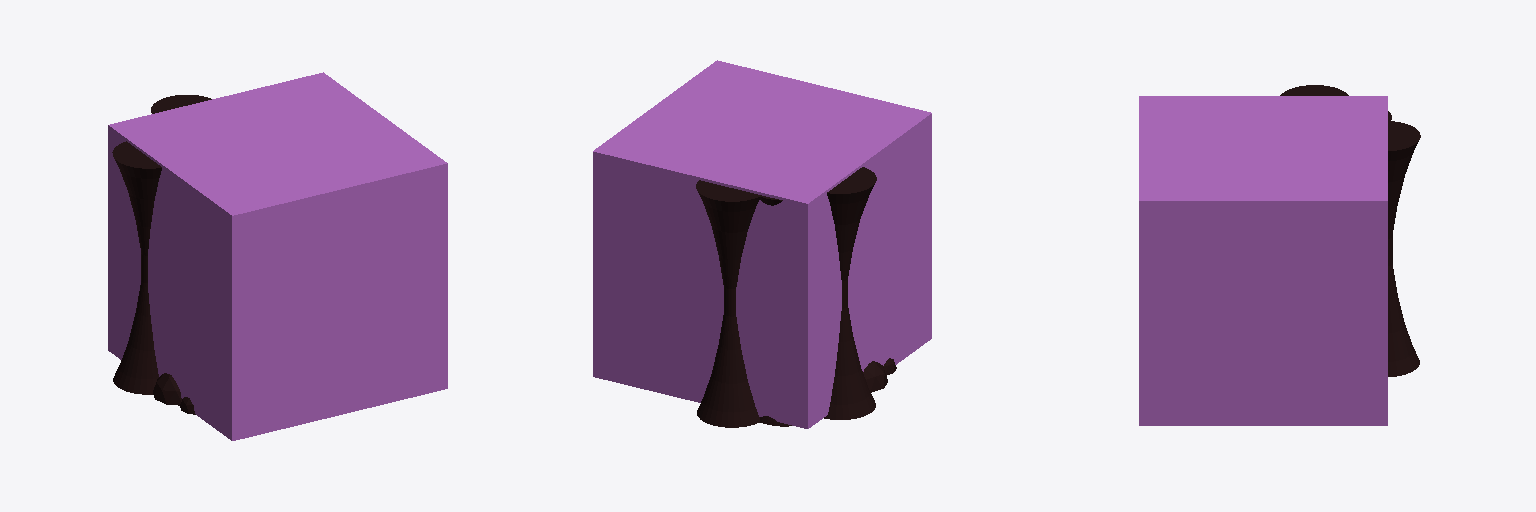
Rendered from crystal_formations.obj.
The picture shows the model from 3 angles: view 1: azimuth 30°, elevation 25°; view 2: azimuth 150°, elevation 25°; view 3: azimuth 270°, elevation 25°; orthographic projection.
Visible parts, largest first — view 1: Cube_Cube.002, Cylinder.001, Icosphere.003_Icosphere.004, Cylinder.002; view 2: Cube_Cube.002, Cylinder.002, Cylinder.001, Icosphere.003_Icosphere.004; view 3: Cube_Cube.002, Cylinder.002, Cylinder.001.
Boxes of the visible parts, box(x1,y1,x2,y2) form: Cube_Cube.002: box(108, 72, 447, 440); Cylinder.001: box(112, 141, 161, 394); Icosphere.003_Icosphere.004: box(153, 373, 181, 405); Cylinder.002: box(151, 95, 211, 113); Cube_Cube.002: box(593, 60, 931, 428); Cylinder.002: box(696, 180, 759, 427); Cylinder.001: box(824, 167, 876, 419); Icosphere.003_Icosphere.004: box(863, 361, 887, 392); Cube_Cube.002: box(1139, 96, 1387, 425); Cylinder.002: box(1388, 121, 1420, 376); Cylinder.001: box(1280, 85, 1348, 95).
Size of the model in its own units: 41.25 by 37.17 by 41.43.